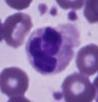N: (26, 25, 74, 76)
